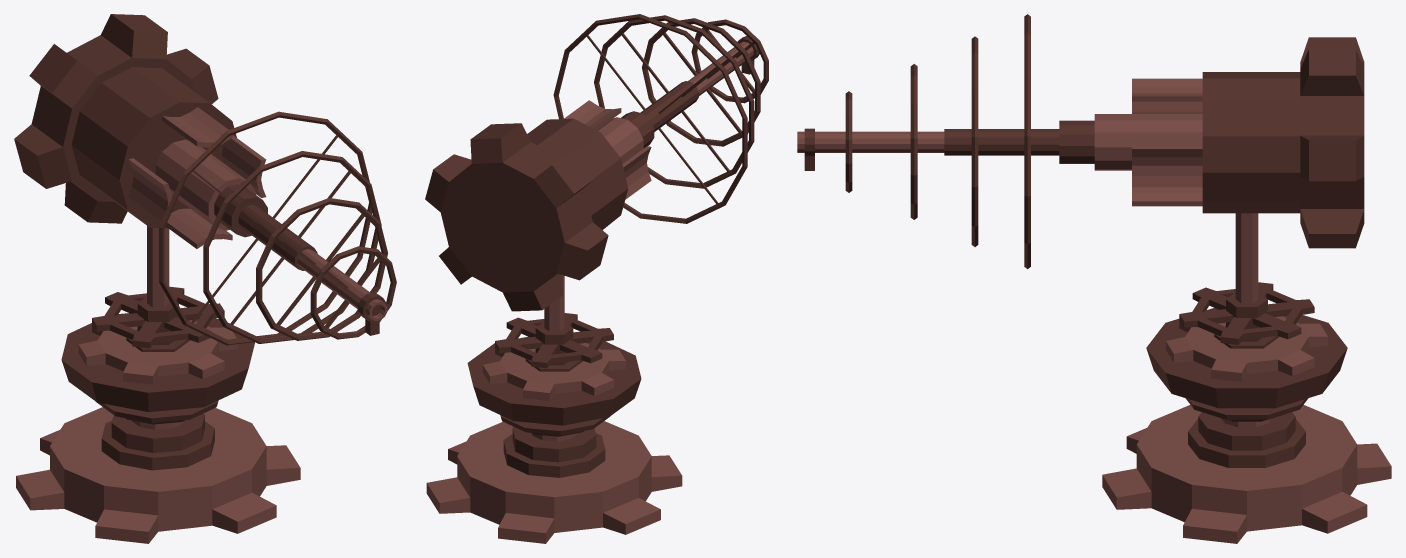
File: laser_2.glb
3 renders of one model, left to right at view 1: azimuth 30°, elevation 25°; view 2: azimuth 150°, elevation 25°; view 3: azimuth 270°, elevation 25°, orthographic. The views are drawn at different scales.
Parts seen in each view (by area): view 1: _MeshInstance3D_194, _MeshInstance3D_193, _MeshInstance3D_195; view 2: _MeshInstance3D_194, _MeshInstance3D_193, _MeshInstance3D_195; view 3: _MeshInstance3D_194, _MeshInstance3D_193, _MeshInstance3D_195.
Boxes of the visible parts, <box> form: _MeshInstance3D_194: <box>14,14,396,345</box>; _MeshInstance3D_193: <box>16,313,300,543</box>; _MeshInstance3D_195: <box>78,226,237,384</box>; _MeshInstance3D_194: <box>425,14,768,311</box>; _MeshInstance3D_193: <box>426,336,682,543</box>; _MeshInstance3D_195: <box>483,275,625,400</box>; _MeshInstance3D_194: <box>797,14,1364,268</box>; _MeshInstance3D_193: <box>1102,308,1391,543</box>; _MeshInstance3D_195: <box>1166,213,1327,381</box>.
Bounding box in the file's own units: 1.38 × 2.4 × 2.83.
